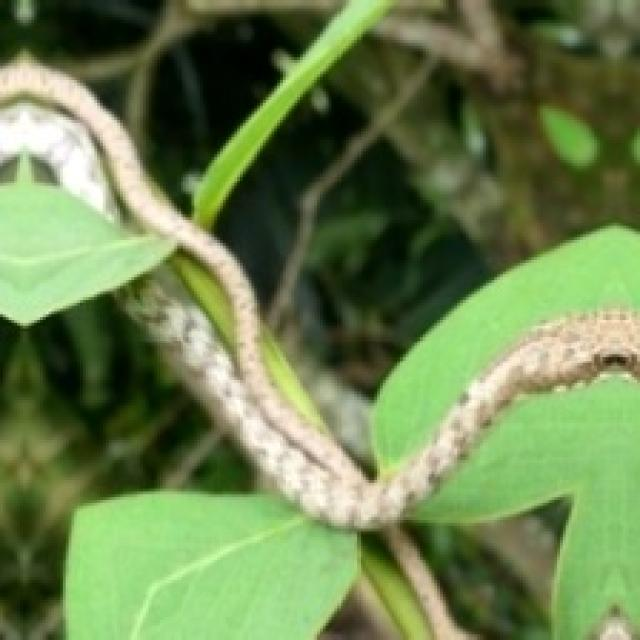philippine whip snake: (0, 57, 637, 529)
